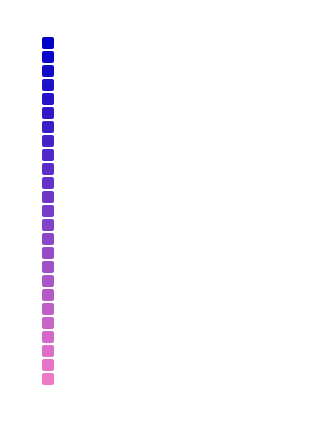
Test: CollapsibleLegend › shows only first 20 items when labels visible and categories exceed limit
// Expand labels by clicking a swatch
Click the element titled "cat0" at (48, 43), box [42,37,54,49]
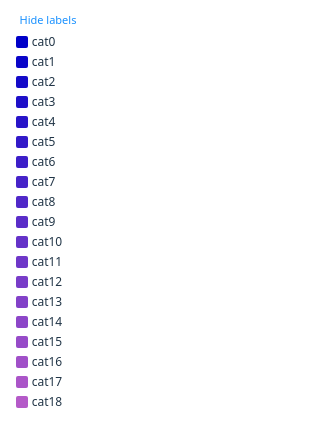
Result: the text "cat0" is shown at [32,32,55,50]
Result: the text "cat2" is shown at [32,72,55,90]
Result: the text "cat20" is gone
